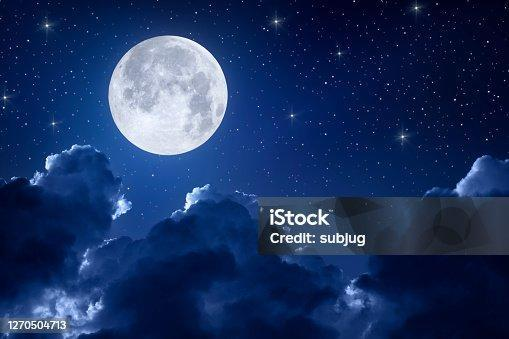moon: (108, 31, 235, 156)
